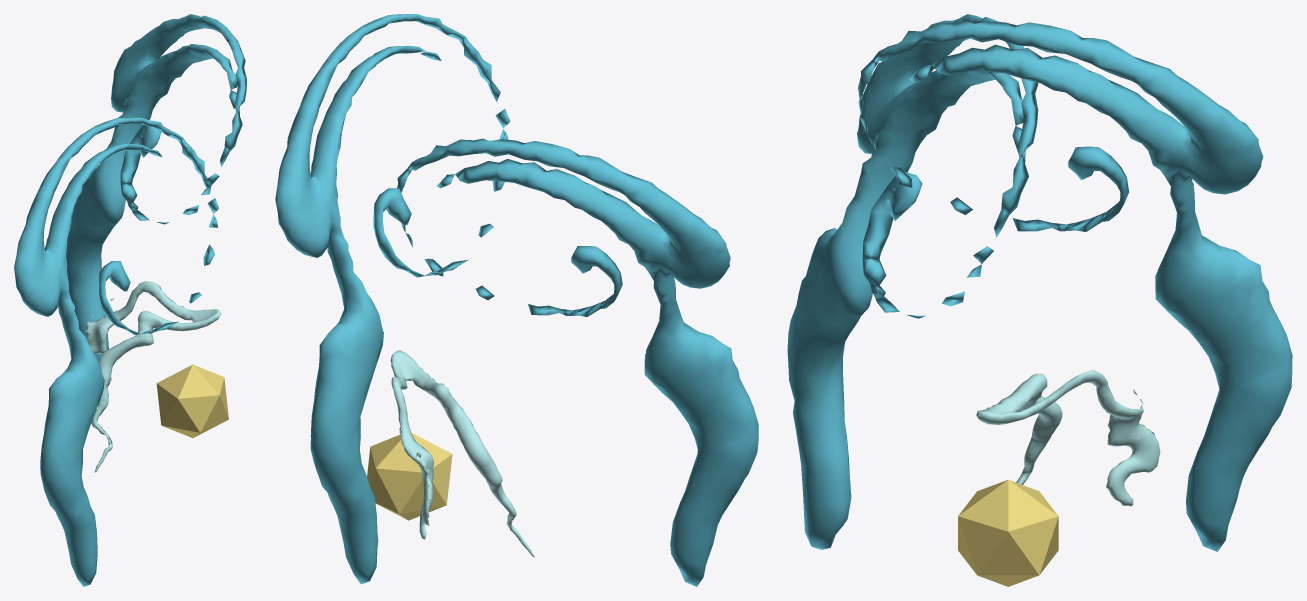
File: asset.glb
3 views of the same model, side by side, from view 1: azimuth 30°, elevation 25°; view 2: azimuth 150°, elevation 25°; view 3: azimuth 270°, elevation 25° (orthographic). The views are drawn at different scales.
Parts seen in each view (by area): view 1: Sphere.002, Sphere.001, Sphere, Icosphere; view 2: Sphere.002, Sphere.001, Sphere, Icosphere; view 3: Sphere.001, Sphere.002, Icosphere, Sphere.
Part boxes in pixels (left/top/right/bottom): Sphere.002: left=14, top=117, right=219, bottom=586; Sphere.001: left=66, top=14, right=246, bottom=359; Sphere: left=85, top=281, right=221, bottom=472; Icosphere: left=156, top=364, right=228, bottom=438; Sphere.002: left=397, top=138, right=758, bottom=586; Sphere.001: left=275, top=14, right=510, bottom=584; Sphere: left=390, top=350, right=534, bottom=557; Icosphere: left=367, top=433, right=452, bottom=520; Sphere.001: left=858, top=21, right=1292, bottom=551; Sphere.002: left=787, top=14, right=1038, bottom=549; Icosphere: left=958, top=479, right=1058, bottom=586; Sphere: left=976, top=370, right=1160, bottom=506.
Bounding box in the file's own units: 159 × 265 × 181.
